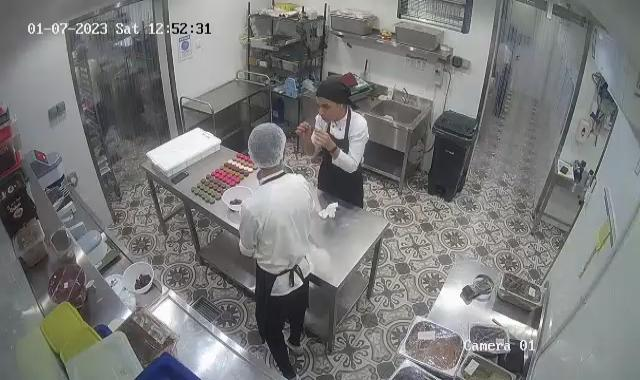hairnet: (249, 120, 285, 168)
no_hairnet: (318, 78, 350, 114)
